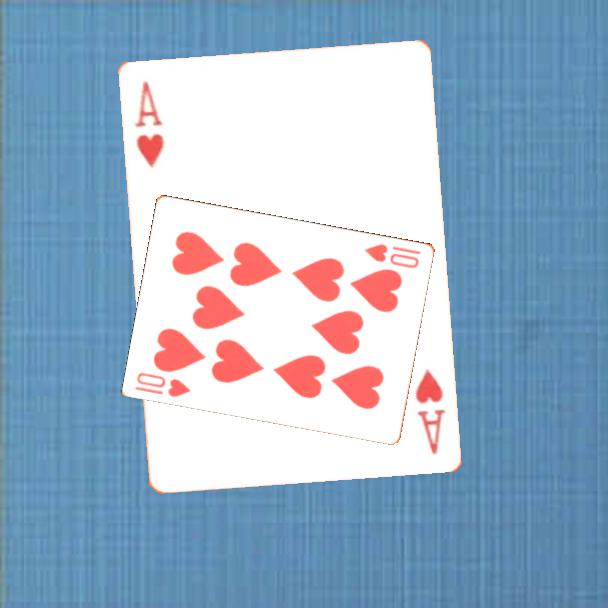h01: (130, 77, 167, 170), (411, 365, 448, 457)
h10: (362, 240, 424, 271), (132, 369, 194, 400)
